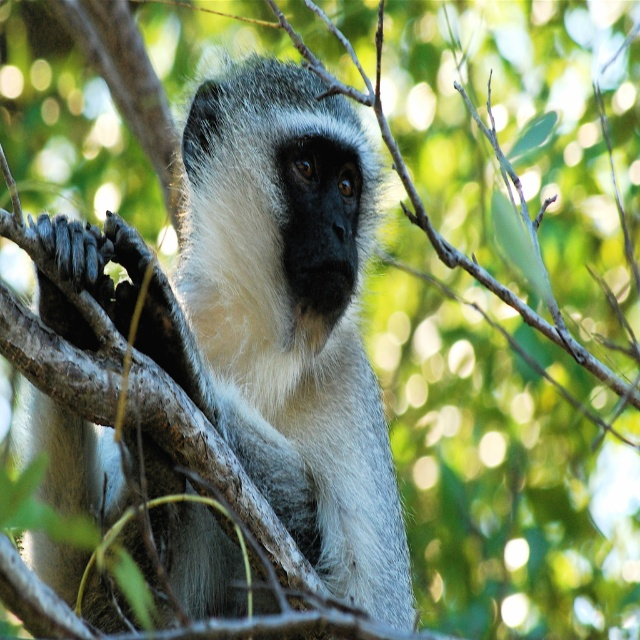Monkey: (36, 32, 419, 640)
